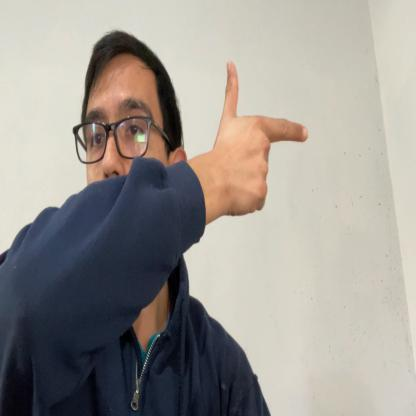G: (214, 60, 308, 216)
